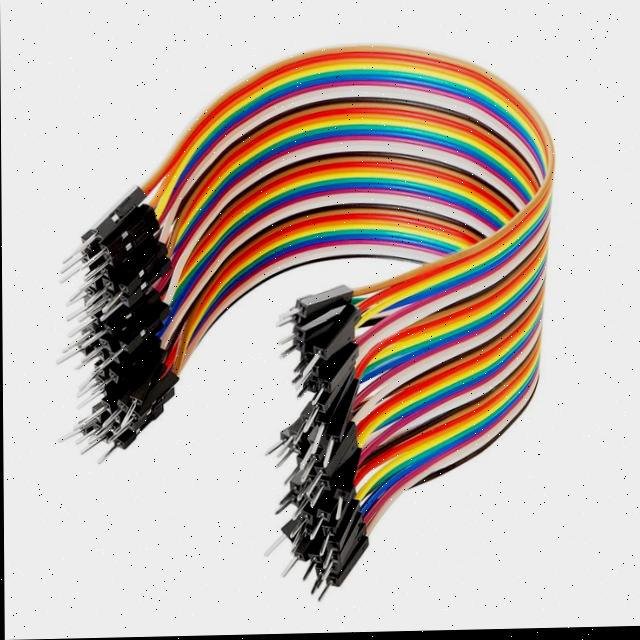Jumper Wires: (47, 28, 567, 623)
